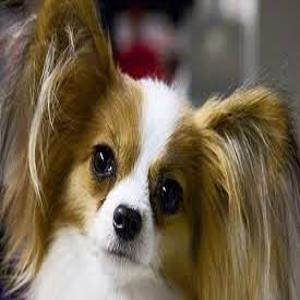yell: (1, 0, 300, 300)
